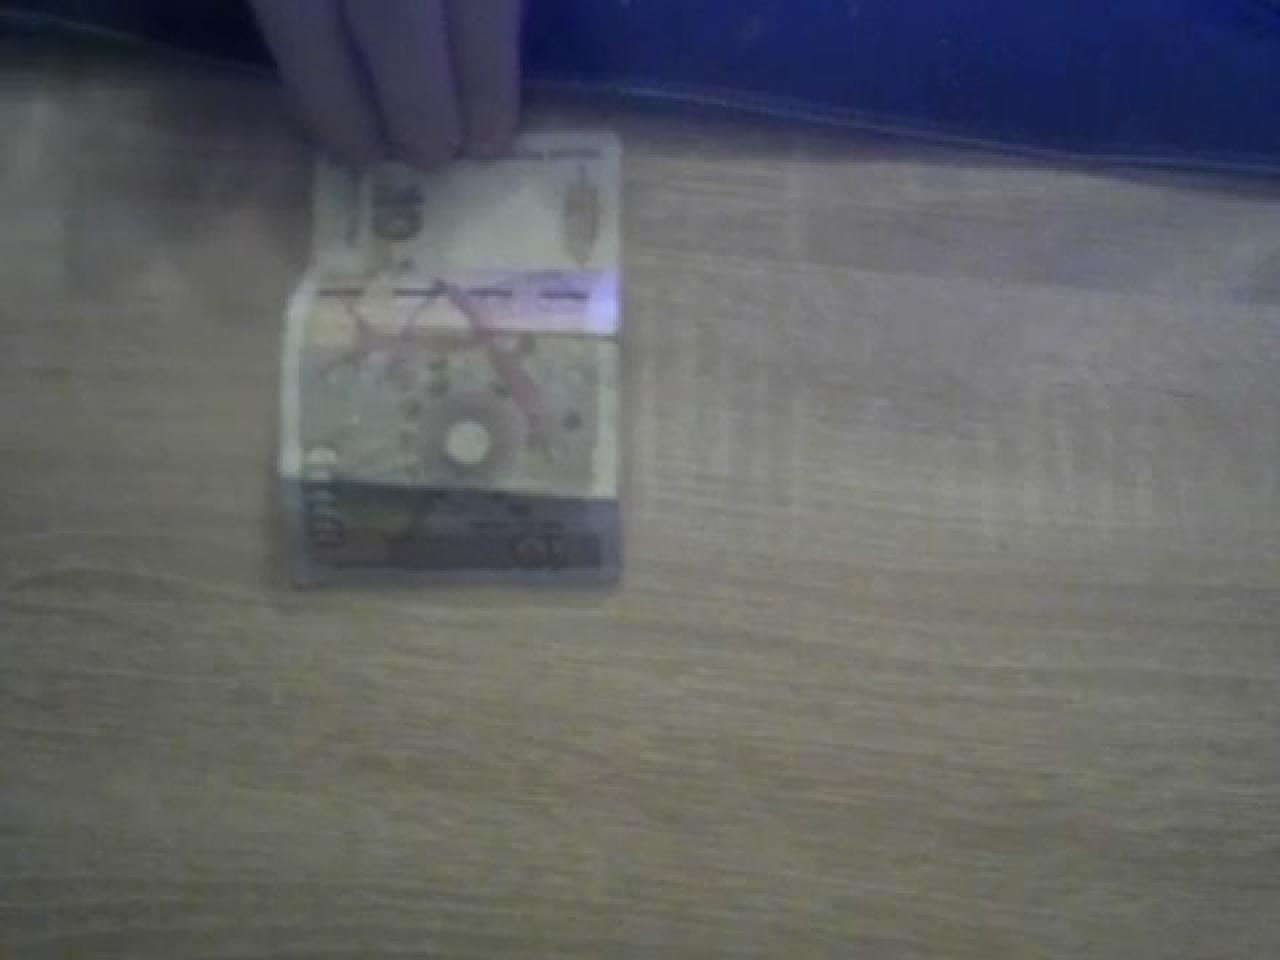10leva: (272, 128, 629, 587)
